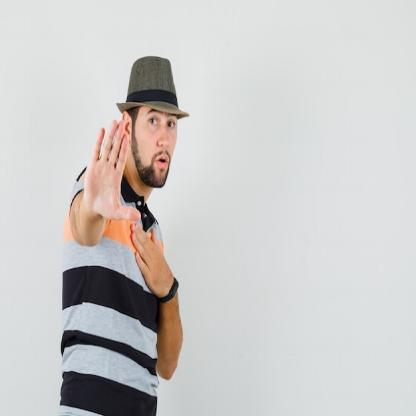stop: (81, 115, 143, 227)
